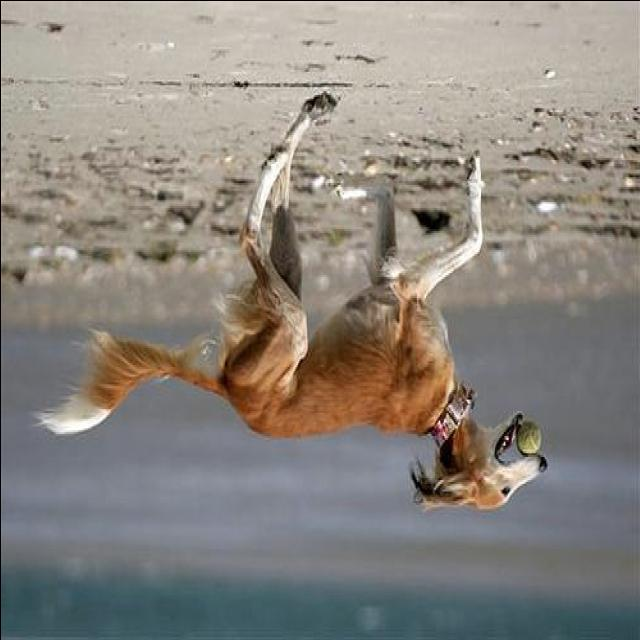saluki: (34, 96, 548, 514)
